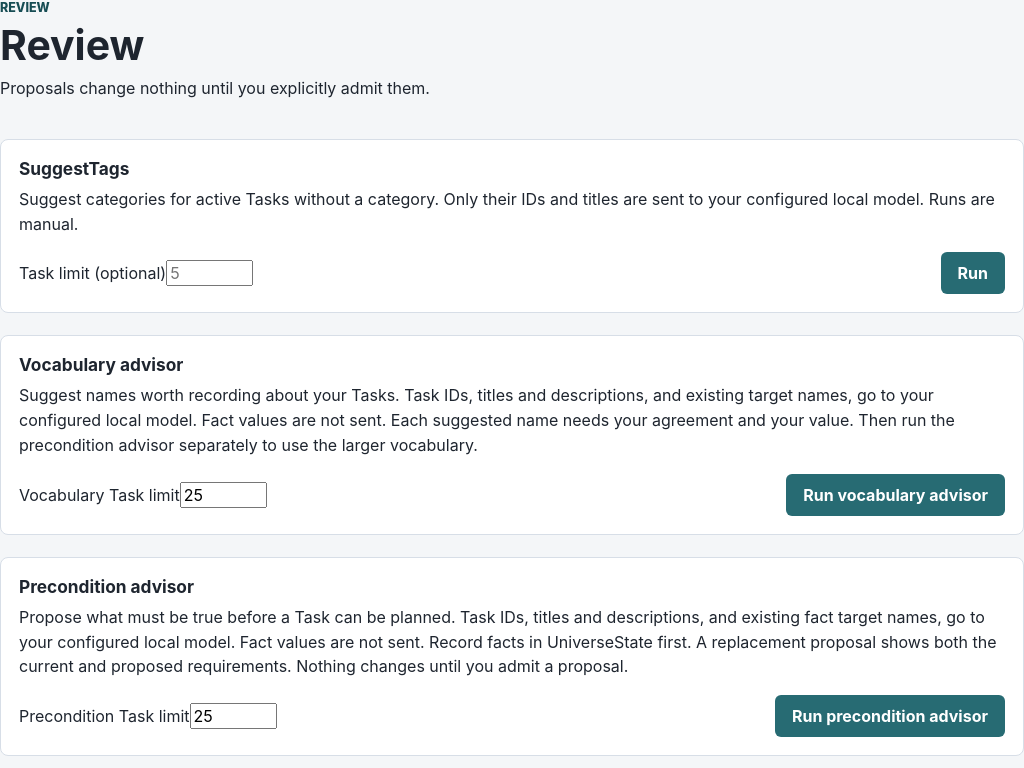
Scenario: independent producer results share one latest four-line selection report
Expected: the button "Run precondition advisor" is enabled, [775,695,1005,737]
Step 1. Click the button "Run vocabulary advisor" → (896, 495), box [786,474,1005,516]
(page scrolled)
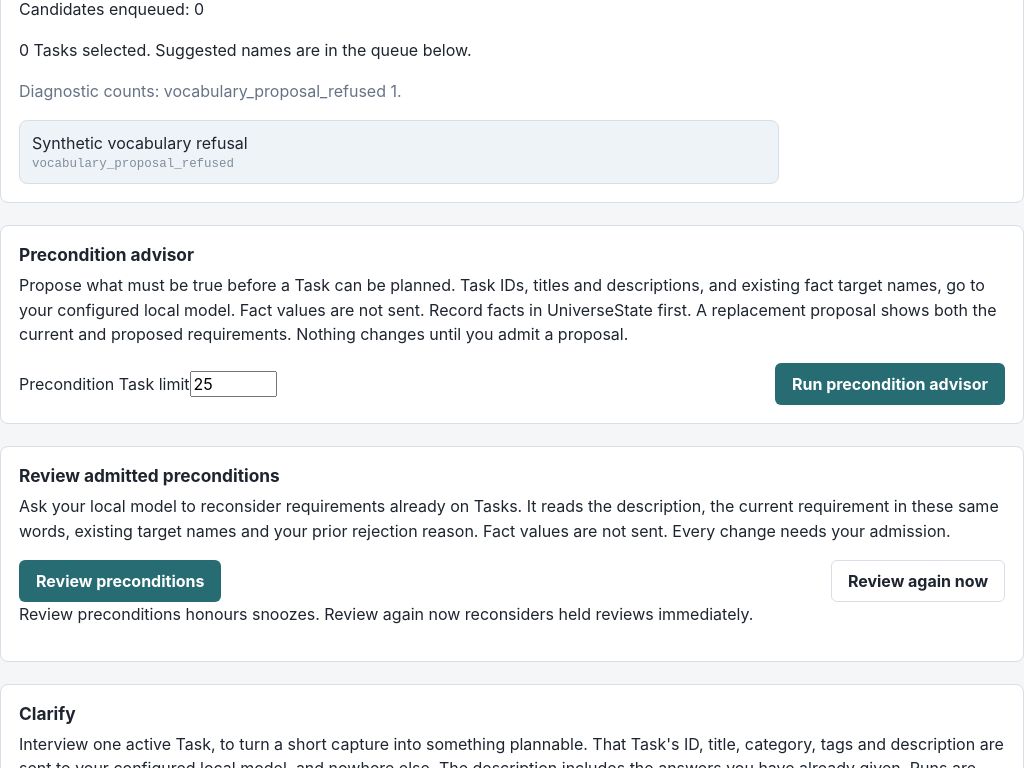
Step 2. Click the button "Run precondition advisor" → (890, 384), box [775,363,1005,405]
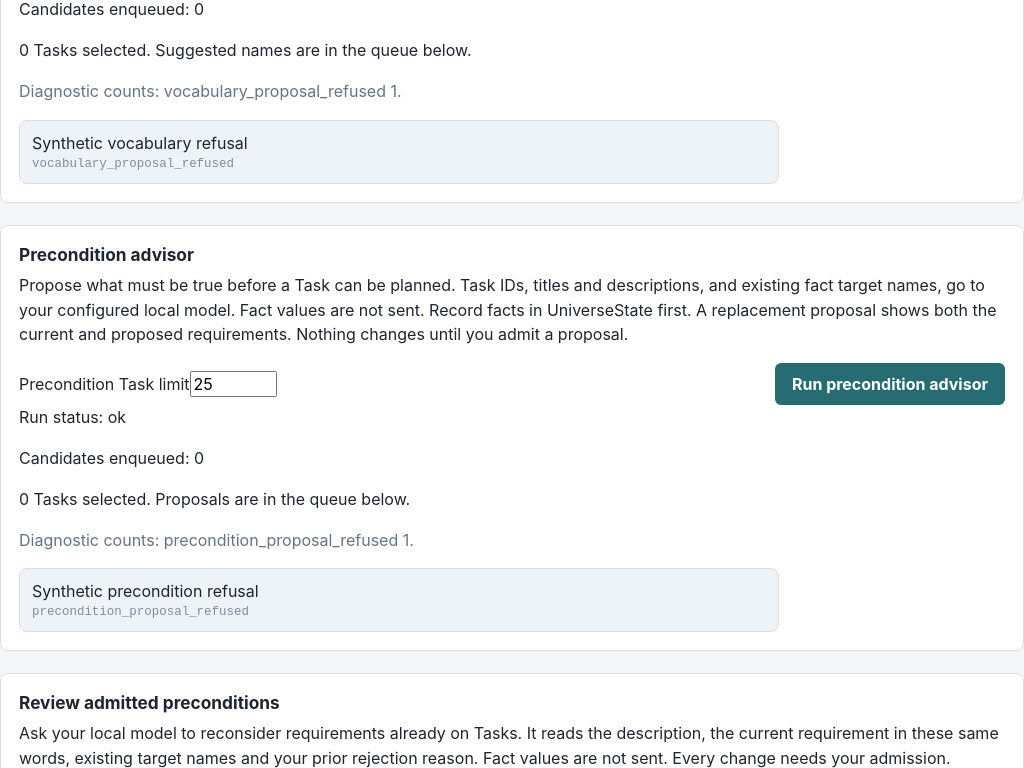
Expected: the text "Synthetic vocabulary refusal" is shown, [32,133,248,153]
Expected: the element named "Precondition advisor result" shows "proposal_refused 1.", [19,407,779,632]
Expected: the text "Synthetic precondition refusal" is shown, [32,581,259,601]
